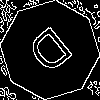D: (25, 25, 81, 83)
